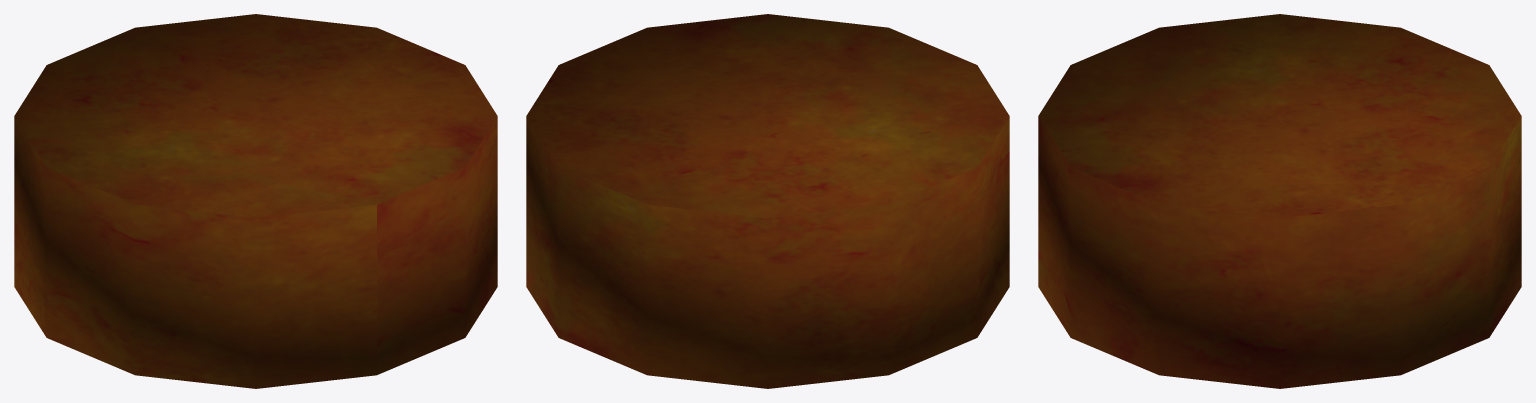
The model's file is Pipe Adapter Small.fbx.
The picture shows the model from 3 angles, left to right: view 1: azimuth 30°, elevation 25°; view 2: azimuth 150°, elevation 25°; view 3: azimuth 270°, elevation 25°; orthographic projection.
Parts seen in each view (by area): view 1: Pipe Adapter.013; view 2: Pipe Adapter.013; view 3: Pipe Adapter.013.
Boxes of the visible parts, x1,y1,x2,y2 form: Pipe Adapter.013: [14, 14, 497, 388]; Pipe Adapter.013: [526, 14, 1009, 388]; Pipe Adapter.013: [1038, 14, 1521, 388].
Size of the model in its own units: 9.42 by 3.67 by 9.42.
